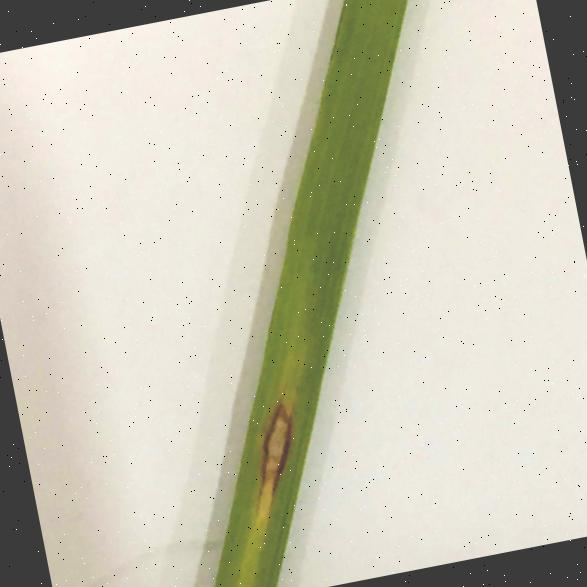Leaf_smut: (234, 390, 314, 500)
